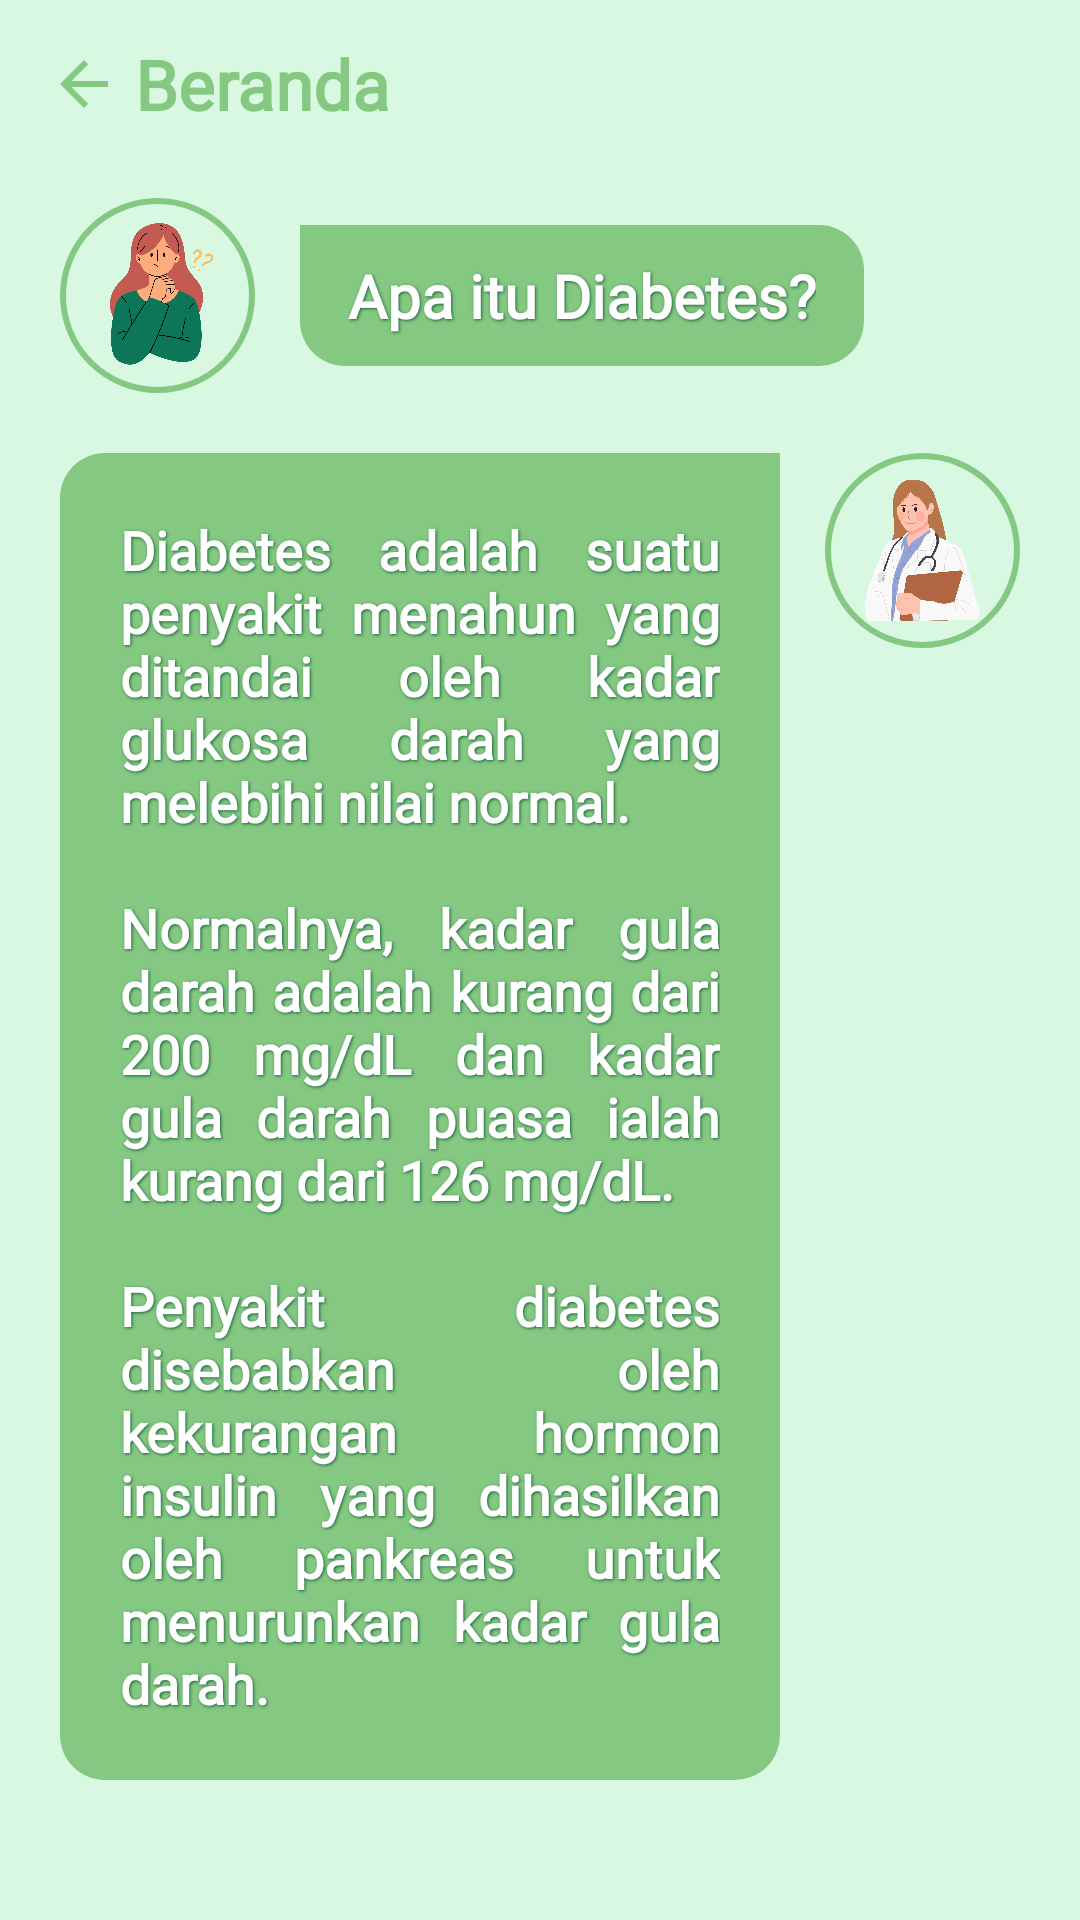

Screen size 1080*1920. Icon name, then its center in pixels as (x=x, y=y):
back: (x=84, y=84)
dokter ilust: (x=922, y=550)
pasien ilust: (x=161, y=294)
